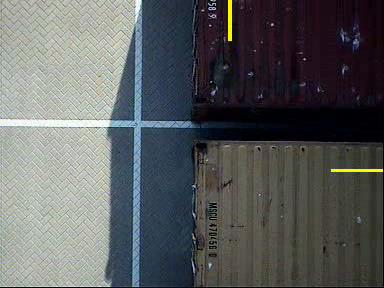groundmarker_2: (46, 174, 129, 227)
